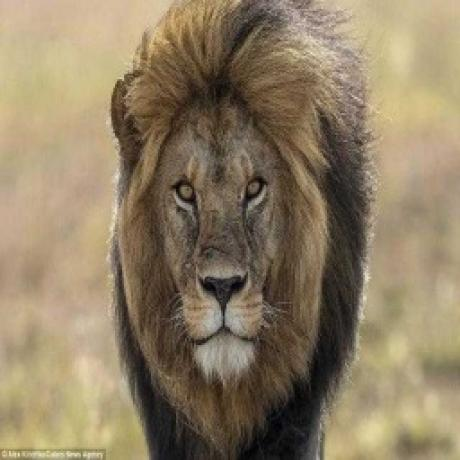Lion: (107, 0, 377, 460)
